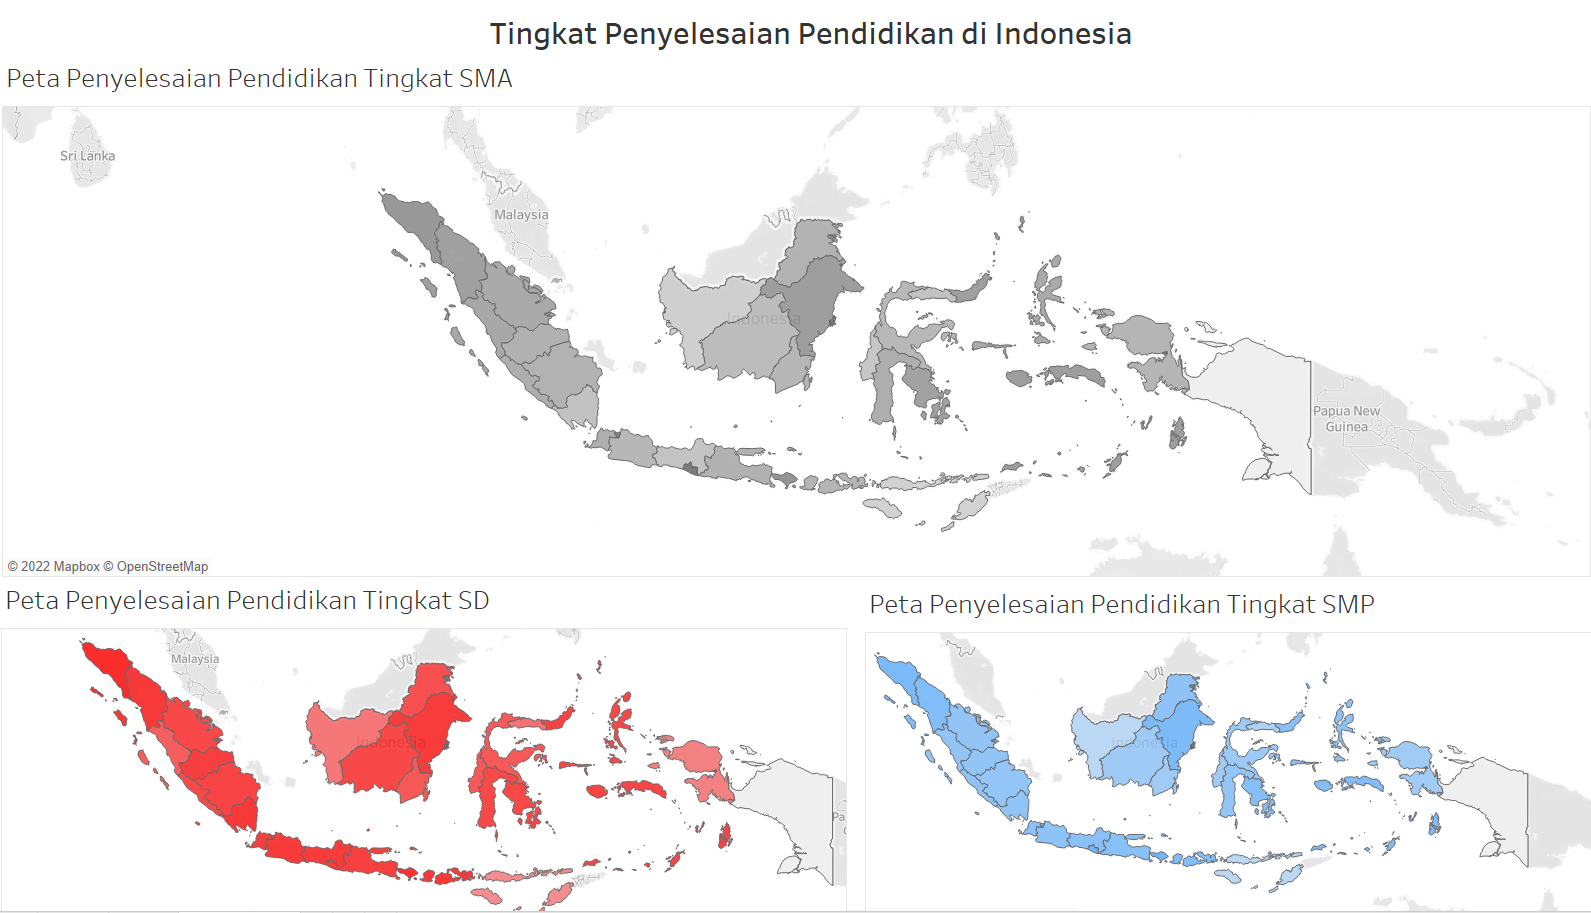

Layout of this report page (visuals, bound fields, positions):
{"tool":"tableau","page":{"name":"Dashboard 1","canvas":[1000,1000],"units":"permille","ordinal":0},"visuals":[{"type":"title","box":[4.8,8.8,990.3,53.8]},{"type":"worksheet","title":"Sheet 1","mark":"Automatic","cols":["F1"],"box":[80,88.8,649,478.8]},{"type":"legend","title":"Sheet 1","param":"[federated.0j0bjph0rsd6q512bf20d17fb6q1].[:Measure Names]","box":[768,95,140,97.5]},{"type":"worksheet","title":"Sheet 2","mark":"Automatic","box":[11,568.8,316,283.8]},{"type":"worksheet","title":"Sheet 4","mark":"Automatic","box":[332,568.8,323,283.8]},{"type":"worksheet","title":"Sheet 5","mark":"Automatic","box":[659,570,333,282.5]}]}

Visuals, with their boxes on the dashboard's canvas, which has no fixed pixel size, in thousandths of its width and height (x1, y1, x2, y2). These are canvas units, not pixel positions in the 1591x913 screenshot, which may show the page scaled, cropped or inside an application window:
title: bbox=(5, 9, 995, 63)
"Sheet 1" worksheet: bbox=(80, 89, 729, 568)
"Sheet 1" legend: bbox=(768, 95, 908, 192)
"Sheet 2" worksheet: bbox=(11, 569, 327, 853)
"Sheet 4" worksheet: bbox=(332, 569, 655, 853)
"Sheet 5" worksheet: bbox=(659, 570, 992, 852)
